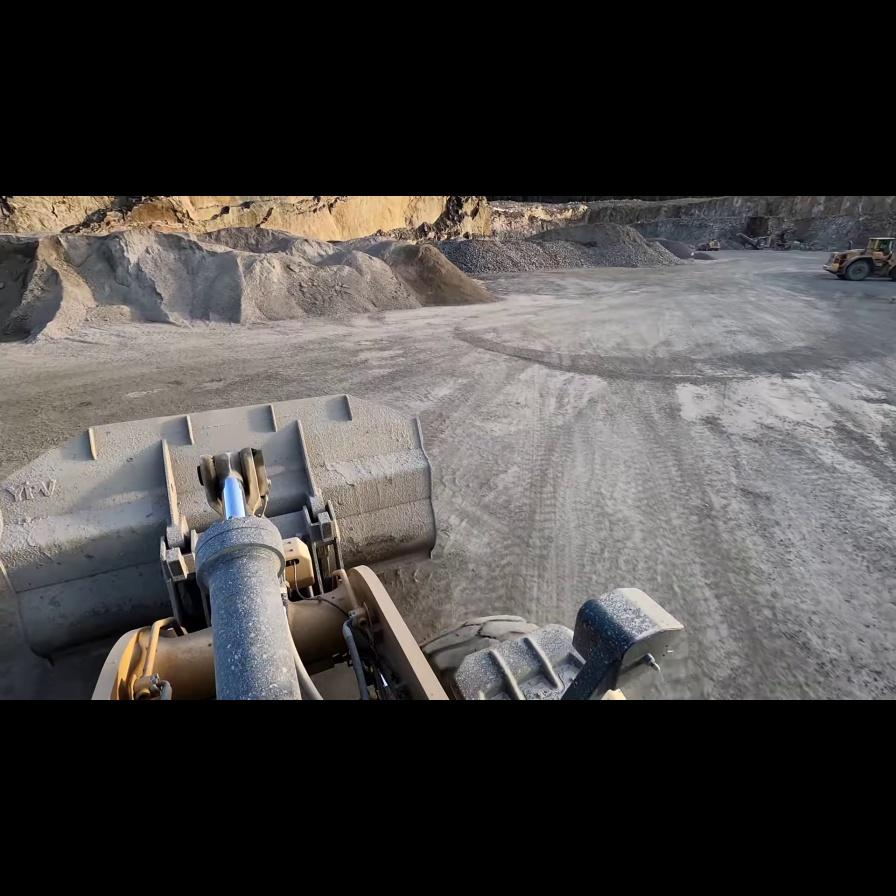anchor: (199, 447, 269, 520)
pile of gravel: (7, 226, 493, 340), (440, 220, 687, 278), (658, 230, 722, 266)
